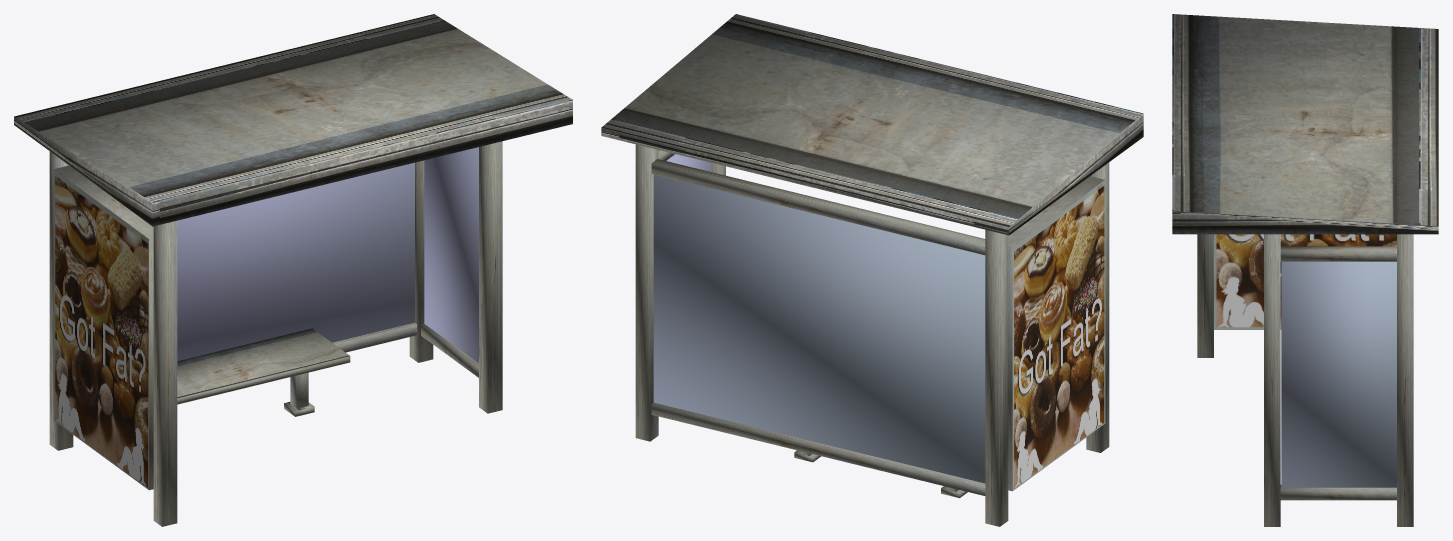
File: busstop.fbx
The picture shows the model from 3 angles, left to right: view 1: azimuth 30°, elevation 25°; view 2: azimuth 150°, elevation 25°; view 3: azimuth 270°, elevation 25°; orthographic projection. The views are drawn at different scales.
Parts seen in each view (by area): view 1: roof0, back_glass0, poster0, frame0, sideGlass0, bench0; view 2: back_glass0, roof0, frame0, poster0; view 3: roof0, sideGlass0, frame0, poster0.
Boxes of the visible parts, x1,y1,x2,y2 form: roof0: [14, 14, 572, 226]; back_glass0: [177, 162, 414, 361]; poster0: [53, 169, 148, 489]; frame0: [49, 141, 502, 526]; sideGlass0: [424, 147, 478, 363]; bench0: [177, 328, 350, 416]; back_glass0: [653, 174, 985, 483]; roof0: [601, 14, 1143, 235]; frame0: [635, 144, 1109, 526]; poster0: [1012, 180, 1105, 490]; roof0: [1172, 14, 1438, 234]; sideGlass0: [1281, 261, 1396, 487]; frame0: [1197, 234, 1413, 526]; poster0: [1214, 234, 1396, 329].
Size of the model in its own units: 5.29 by 4.09 by 3.02.
